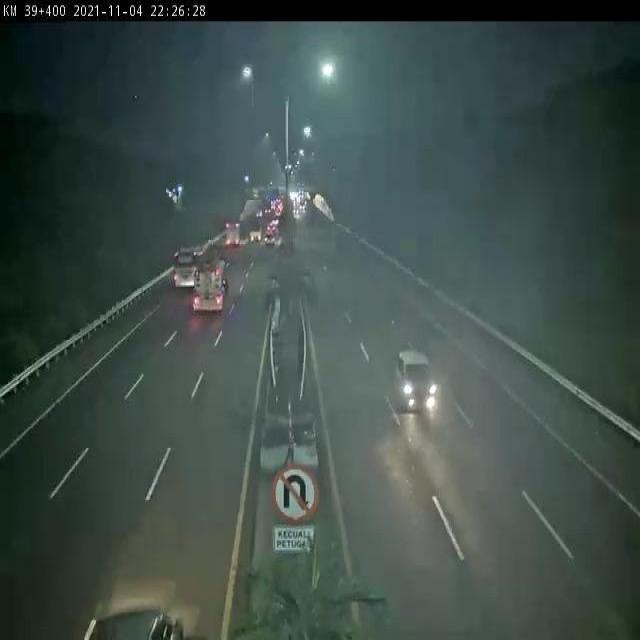bus-l-: (174, 243, 206, 293)
car: (392, 336, 450, 436), (88, 585, 186, 640)
truck-xl-: (194, 258, 237, 326)
